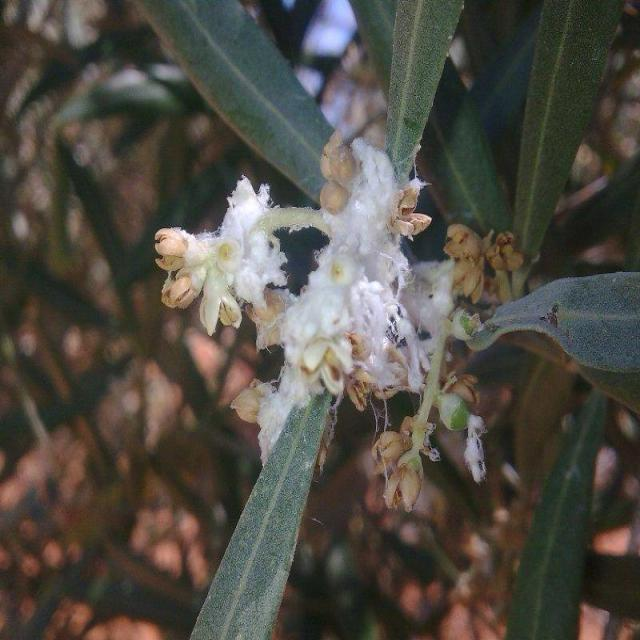Psyllid: (311, 138, 428, 410), (156, 176, 330, 335), (232, 277, 344, 463), (402, 259, 483, 340), (373, 417, 439, 509), (463, 412, 487, 484), (262, 336, 264, 340)
